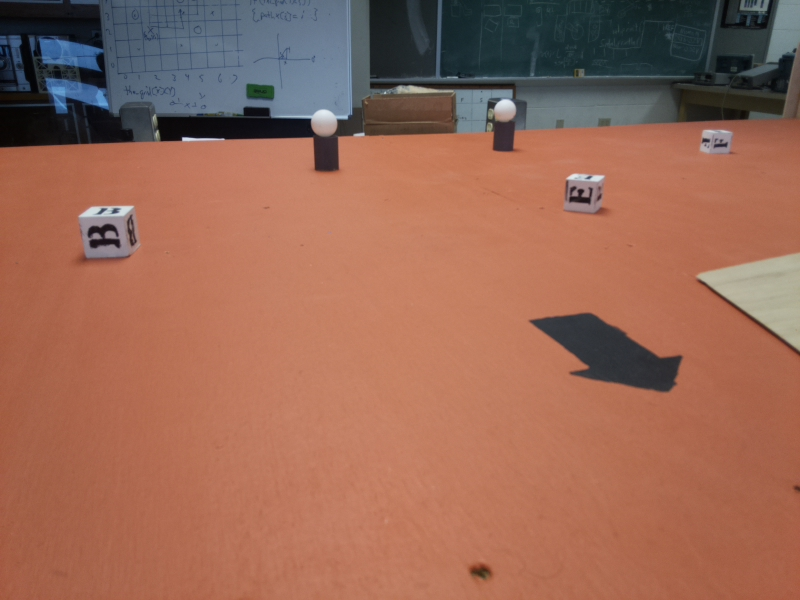blockB: (78, 200, 146, 264)
blockE: (559, 170, 607, 217)
blockF: (695, 123, 738, 159)
obstacle: (308, 103, 343, 177), (488, 99, 523, 143)
start: (518, 298, 702, 403)
